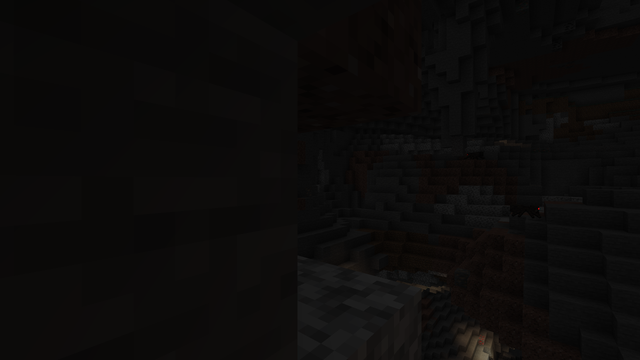araignees: (513, 202, 538, 217), (466, 150, 482, 159)
